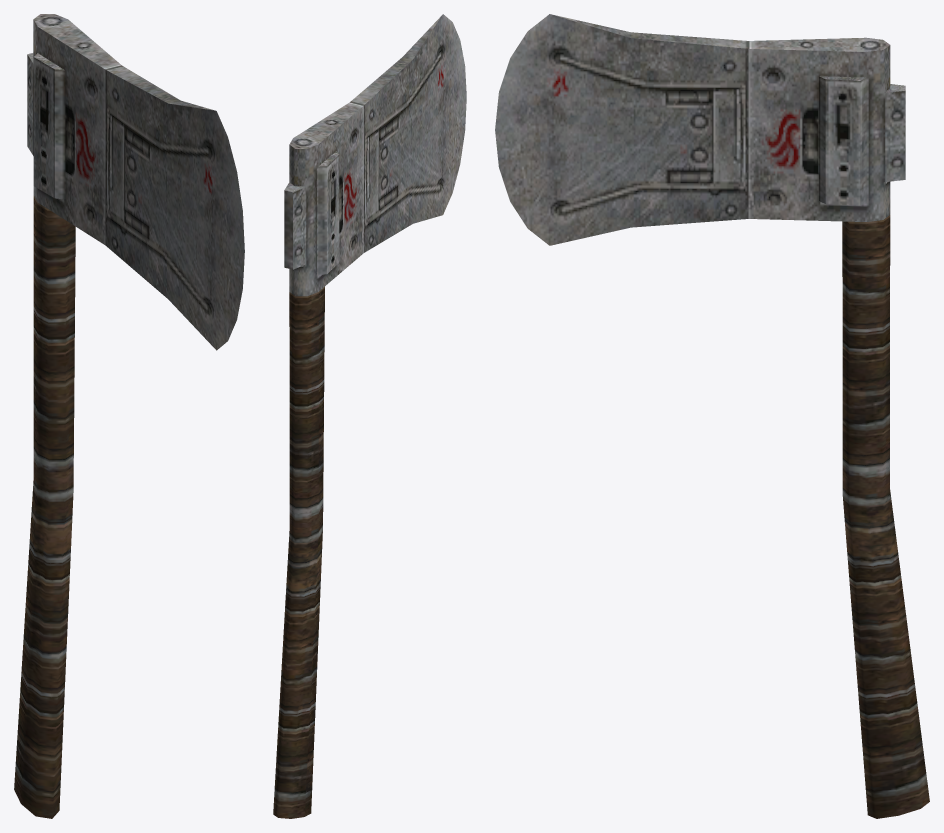
File: wp_mle_axe_vibroax_l0.fbx
3 views of the same model, side by side, from view 1: azimuth 30°, elevation 25°; view 2: azimuth 150°, elevation 25°; view 3: azimuth 270°, elevation 25° (orthographic). The views are drawn at different scales.
Parts seen in each view (by area): view 1: mesh_node; view 2: mesh_node; view 3: mesh_node.
Boxes of the visible parts, box(x1,y1,x2,y2) form: mesh_node: box(14, 14, 244, 818); mesh_node: box(273, 14, 466, 818); mesh_node: box(495, 14, 929, 818).
Bounding box in the file's own units: 0.0412 × 0.7319 × 0.36.
Materials: 1 (1 with a texture image).
